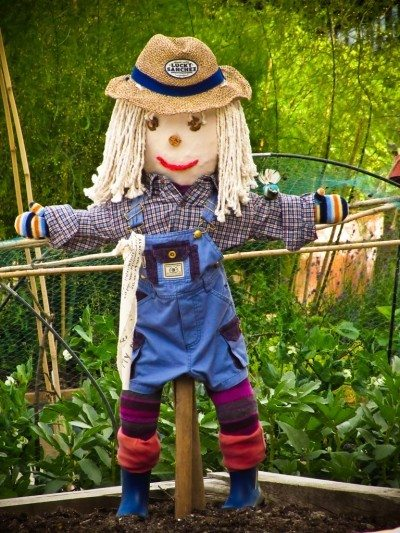person-like: (15, 30, 353, 525)
